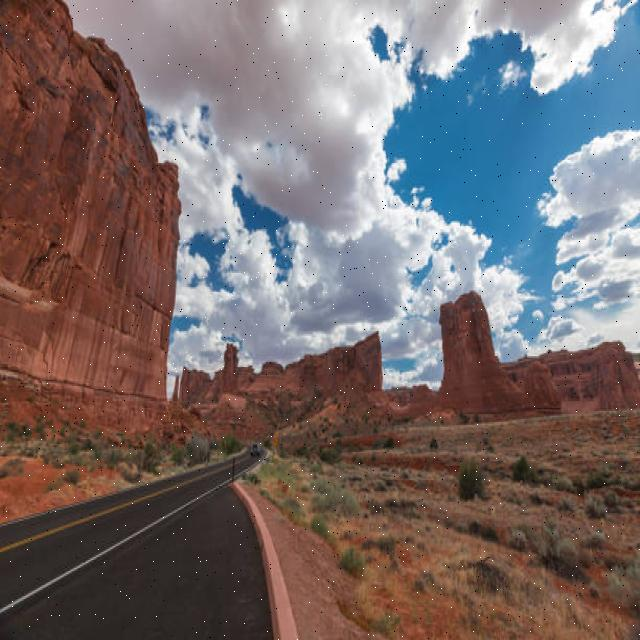Sedimentary: (2, 2, 177, 433), (439, 289, 640, 414), (170, 351, 387, 427)
